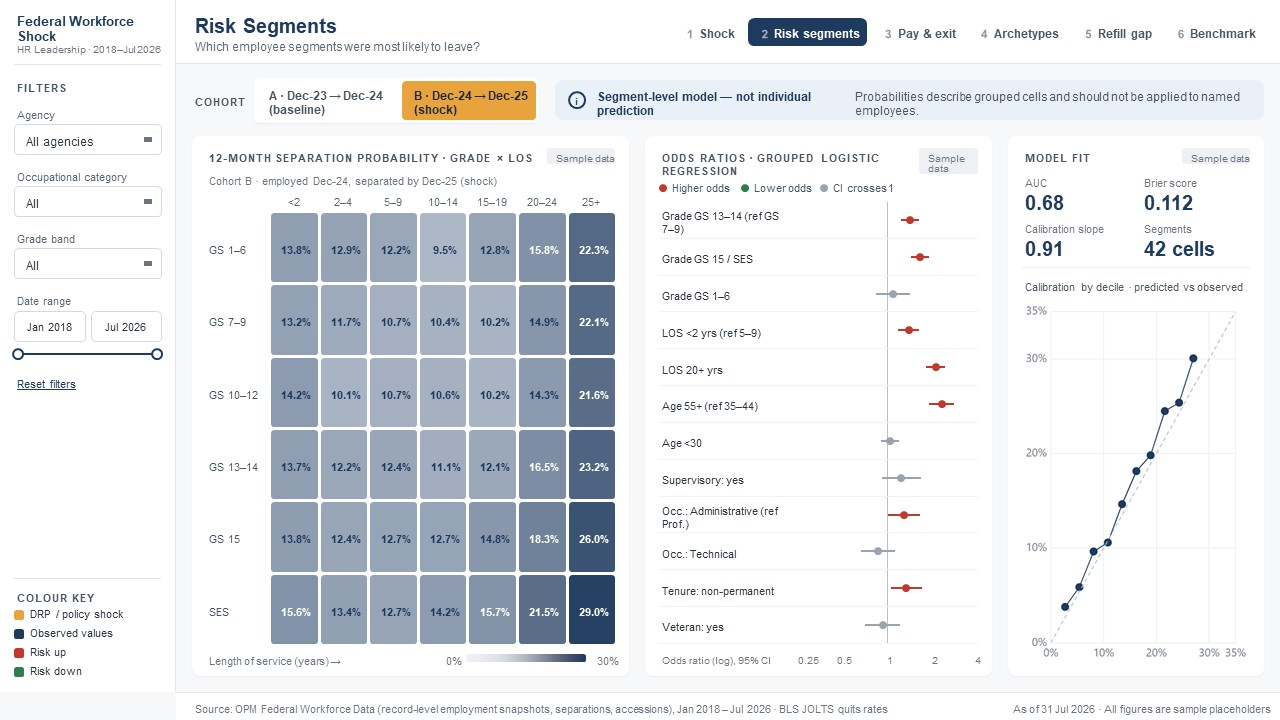

This screenshot's page, from the dashboard's own definition file:
{"tool":"powerbi","page":{"name":"Duplicate of Page 1","canvas":[1280,720],"ordinal":1},"visuals":[{"type":"shape","box":[167.7,688.5,1112.3,31.5],"z":0},{"type":"shape","box":[0.2,0,177.5,720],"z":1000},{"type":"shape","box":[177.5,0,1102.5,61.2],"z":2000},{"type":"shape","box":[188.8,76.2,258.8,92.5],"z":3000},{"type":"shape","box":[461.2,76.2,258.8,92.5],"z":4000},{"type":"shape","box":[733.8,76.2,258.8,92.5],"z":5000},{"type":"shape","box":[1006.2,76.2,258.8,92.5],"z":6000},{"type":"shape","box":[918.8,182.5,346.2,496.2],"z":7000},{"type":"shape","box":[188.8,182.5,713.8,496.2],"z":8000},{"type":"textbox","box":[177.8,0,228.9,36.7],"z":9000},{"type":"shape","box":[664.9,17.1,74,30],"z":9000,"group":"g2"},{"type":"textbox","box":[177.8,28.9,192.2,32.2],"z":10000},{"type":"textbox","box":[748.2,17.1,111.7,30],"z":11000},{"type":"textbox","box":[671.6,17.6,60.6,30],"z":12000,"group":"g2"},{"type":"textbox","box":[178,689,676,31],"z":12000},{"type":"textbox","box":[866.8,16.9,90.8,30],"z":13000},{"type":"textbox","box":[964.5,17.1,96.4,30],"z":14000},{"type":"textbox","box":[1067.9,17.1,88.8,30],"z":15000},{"type":"textbox","box":[1163.6,17.1,101.4,30],"z":16000},{"type":"group","id":"g1","title":"Group 1","box":[664.9,17.1,74,30.5],"z":17000},{"type":"group","id":"g2","title":"Group 2","box":[664.9,17.1,74,30.5],"z":17001,"group":"g1"},{"type":"textbox","box":[0,0,166.2,32.3],"z":18000},{"type":"textbox","box":[0,29.2,177.7,27.7],"z":19000},{"type":"shape","box":[10.1,52.3,157.7,18.5],"z":20000},{"type":"textbox","box":[8.1,67.6,166.2,32.3],"z":21000},{"type":"textbox","box":[8.1,95.2,66.5,27.4],"z":22000},{"type":"textbox","box":[8.1,149.2,125.4,27.7],"z":23000},{"type":"textbox","box":[8.1,200,125.2,27.8],"z":24000},{"type":"textbox","box":[8.1,264.4,125.6,28.1],"z":25000},{"type":"slicer","fields":{"Values":["dim_agency.agency"]},"box":[8.1,119.6,163,34.3],"z":26000},{"type":"slicer","fields":{"Values":["fact_separations.grade_band"]},"box":[8.1,225,163.1,34],"z":27000},{"type":"slicer","fields":{"Values":["fact_accessions.occ_cat"]},"box":[8.1,168.8,163.1,33.8],"z":28000},{"type":"slicer","fields":{"Values":["dim_date.date_ms"]},"box":[10,292.2,163.3,122.2],"z":29000},{"type":"shape","box":[10.9,581.9,156.9,18.5],"z":30000},{"type":"shape","box":[17.8,629.5,13.5,12.2],"z":31000},{"type":"shape","box":[17.8,649.4,13.1,11.9],"z":32000},{"type":"shape","box":[17.8,668.9,13.1,11.9],"z":33000},{"type":"shape","box":[17.8,688.5,13.1,11.9],"z":34000},{"type":"textbox","box":[31.8,620,124.7,27.6],"z":35000},{"type":"textbox","box":[32.4,641.2,124.7,27.1],"z":36000},{"type":"textbox","box":[32.4,658.8,124.7,27.6],"z":37000},{"type":"textbox","box":[32.4,680,124.7,27.6],"z":38000},{"type":"textbox","box":[10.4,594.9,124.5,27.3],"z":39000}]}

Visuals, with their boxes in screenshot pixels (x1, y1, x2, y2), scaled from the page's 1280x720 canvas onto the 1280x720 screenshot:
shape: select_region(168, 688, 1279, 719)
shape: select_region(0, 0, 178, 719)
shape: select_region(178, 0, 1279, 61)
shape: select_region(189, 76, 448, 169)
shape: select_region(461, 76, 720, 169)
shape: select_region(734, 76, 993, 169)
shape: select_region(1006, 76, 1265, 169)
shape: select_region(919, 182, 1265, 679)
shape: select_region(189, 182, 903, 679)
textbox: select_region(178, 0, 407, 37)
shape: select_region(665, 17, 739, 47)
textbox: select_region(178, 29, 370, 61)
textbox: select_region(748, 17, 860, 47)
textbox: select_region(672, 18, 732, 48)
textbox: select_region(178, 689, 854, 719)
textbox: select_region(867, 17, 958, 47)
textbox: select_region(964, 17, 1061, 47)
textbox: select_region(1068, 17, 1157, 47)
textbox: select_region(1164, 17, 1265, 47)
"Group 1" group: select_region(665, 17, 739, 48)
"Group 2" group: select_region(665, 17, 739, 48)
textbox: select_region(0, 0, 166, 32)
textbox: select_region(0, 29, 178, 57)
shape: select_region(10, 52, 168, 71)
textbox: select_region(8, 68, 174, 100)
textbox: select_region(8, 95, 75, 123)
textbox: select_region(8, 149, 134, 177)
textbox: select_region(8, 200, 133, 228)
textbox: select_region(8, 264, 134, 292)
slicer - dim_agency.agency: select_region(8, 120, 171, 154)
slicer - fact_separations.grade_band: select_region(8, 225, 171, 259)
slicer - fact_accessions.occ_cat: select_region(8, 169, 171, 203)
slicer - dim_date.date_ms: select_region(10, 292, 173, 414)
shape: select_region(11, 582, 168, 600)
shape: select_region(18, 630, 31, 642)
shape: select_region(18, 649, 31, 661)
shape: select_region(18, 669, 31, 681)
shape: select_region(18, 688, 31, 700)
textbox: select_region(32, 620, 156, 648)
textbox: select_region(32, 641, 157, 668)
textbox: select_region(32, 659, 157, 686)
textbox: select_region(32, 680, 157, 708)
textbox: select_region(10, 595, 135, 622)
